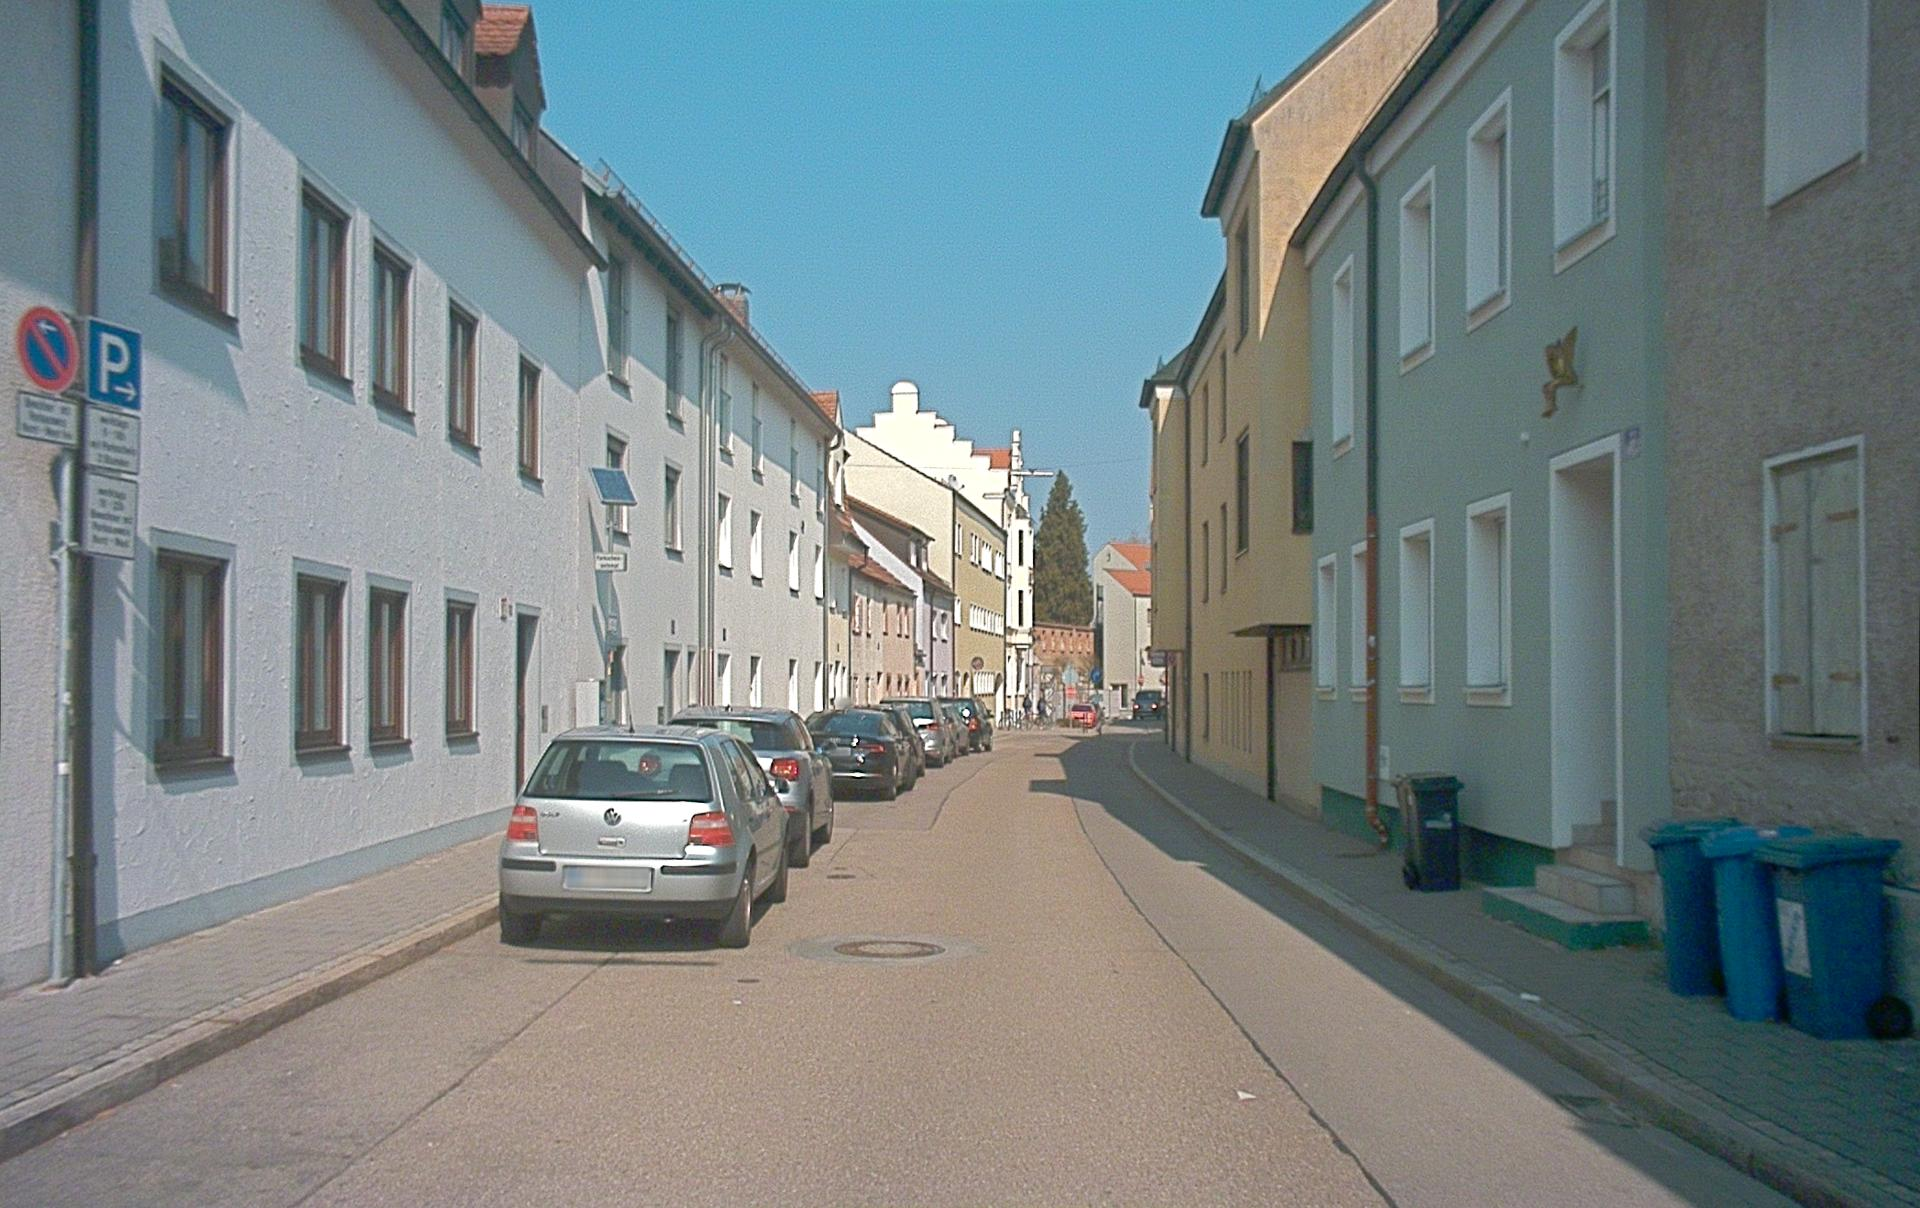car: (498, 725, 790, 949), (666, 704, 835, 868), (806, 708, 906, 800), (849, 706, 927, 786), (881, 697, 954, 767), (939, 697, 993, 753), (939, 706, 971, 756), (1131, 689, 1165, 721), (1070, 703, 1098, 729)
traffic sign: (85, 316, 143, 416), (79, 469, 139, 559), (82, 404, 141, 477), (15, 390, 79, 448)
